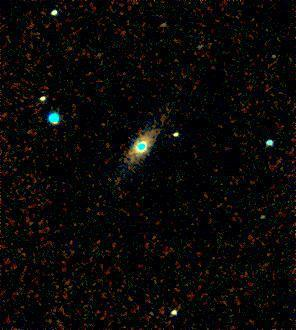star: (110, 142, 140, 172)
